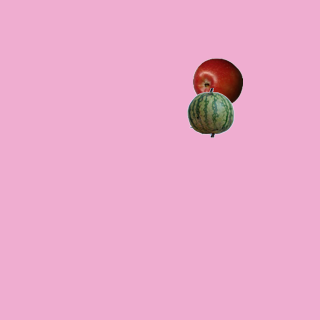Apple Braeburn: (192, 57, 242, 107)
Watermelon: (185, 87, 235, 137)
